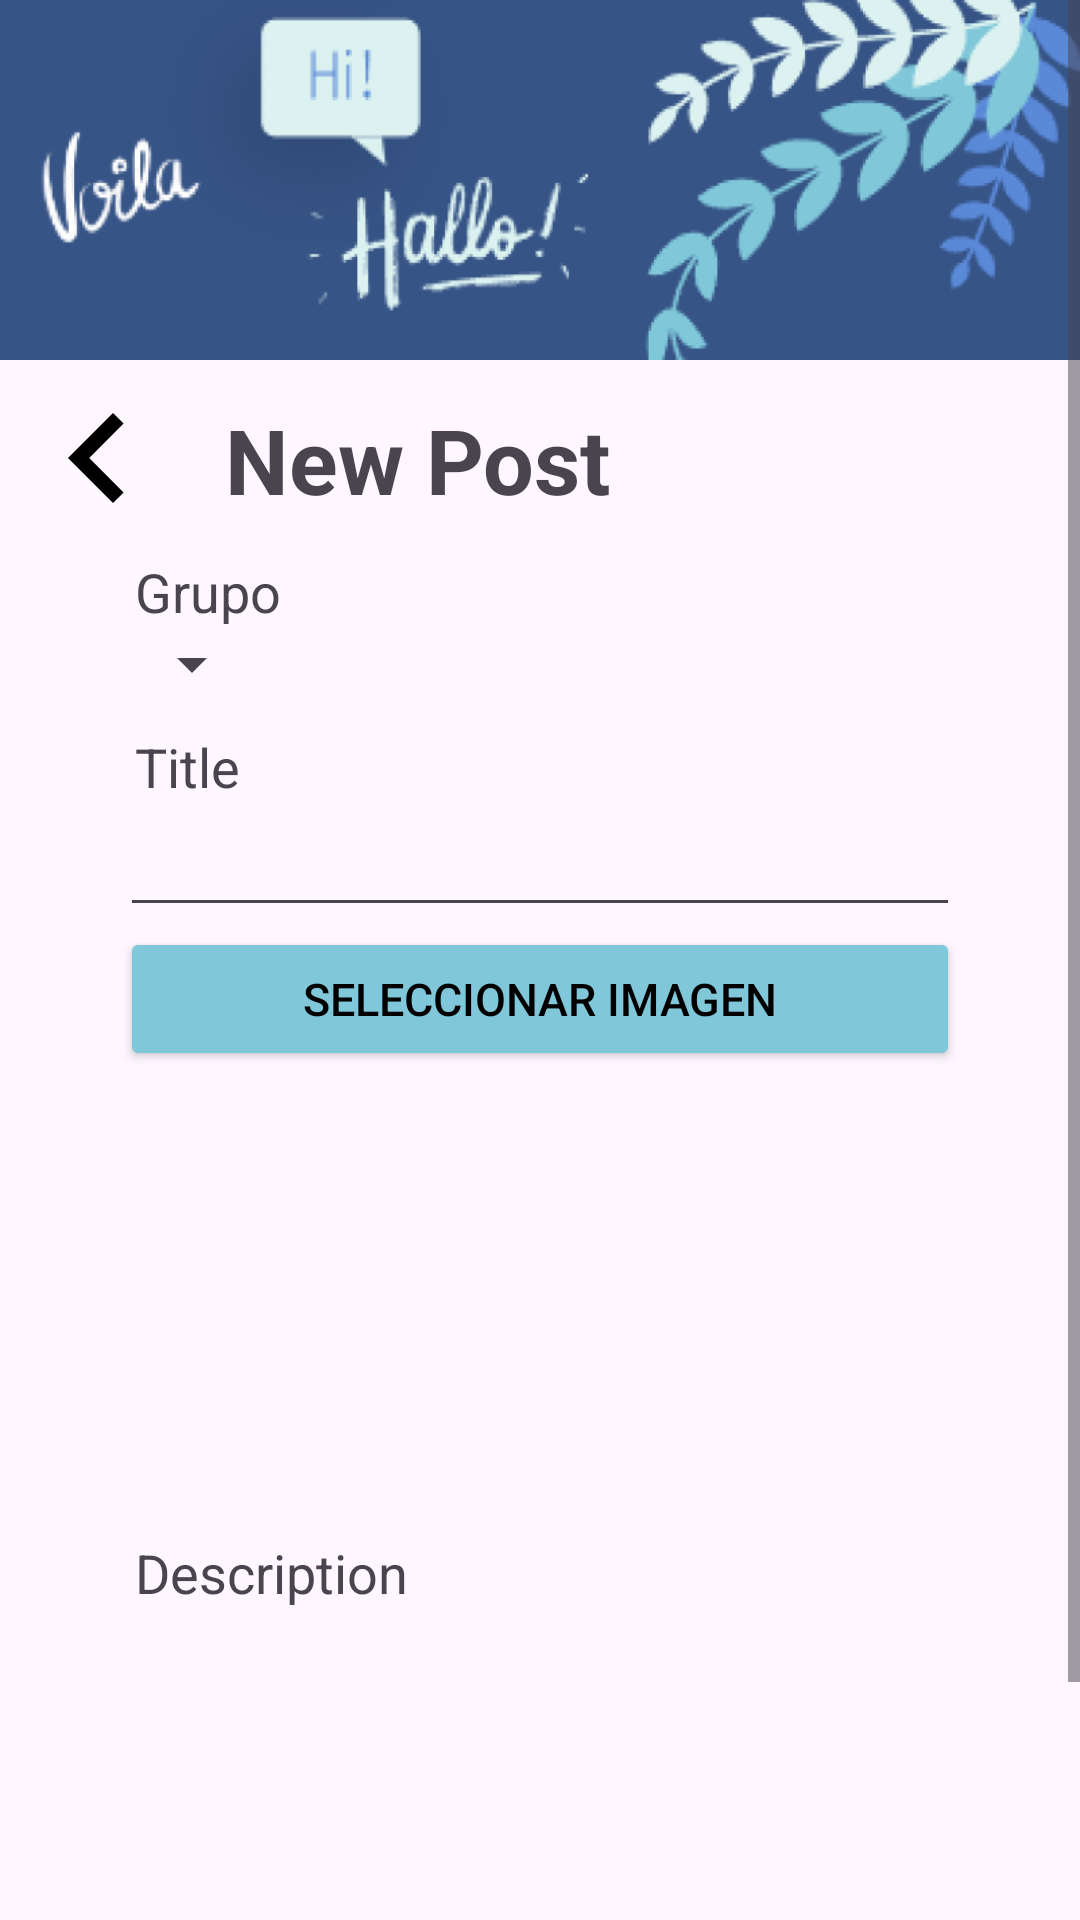

Where to tap for icons on this 1080*1920 app screen, as (x=x, y=y):
chevron left: (x=96, y=458)
